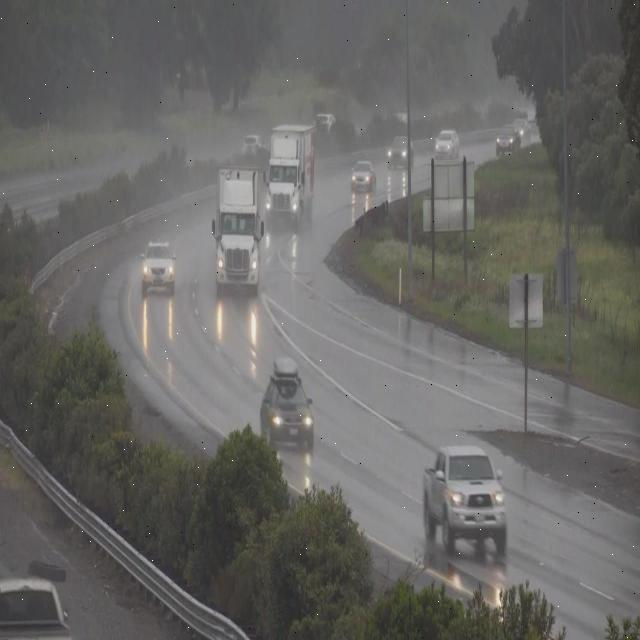Car: (423, 444, 508, 554), (260, 358, 315, 453), (141, 239, 177, 296), (495, 119, 526, 156), (387, 135, 413, 170), (351, 160, 377, 192), (434, 129, 460, 160), (515, 119, 536, 148), (242, 134, 268, 157), (315, 113, 336, 136), (513, 111, 529, 127), (393, 111, 408, 126)
Truck: (213, 165, 263, 296), (267, 123, 317, 232)
